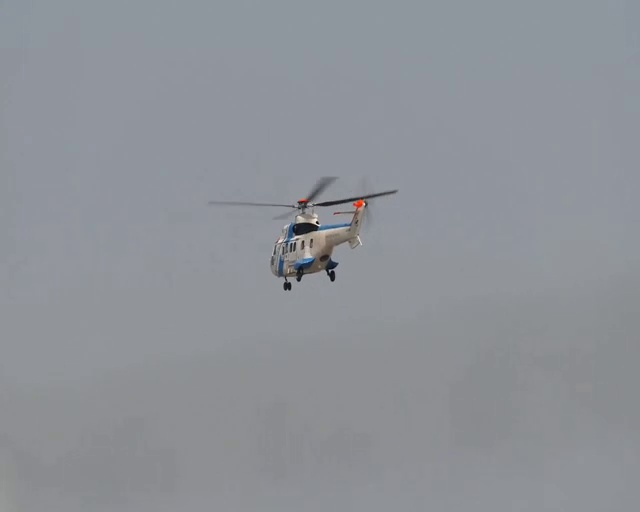HELICOPTER: (206, 174, 401, 292)
